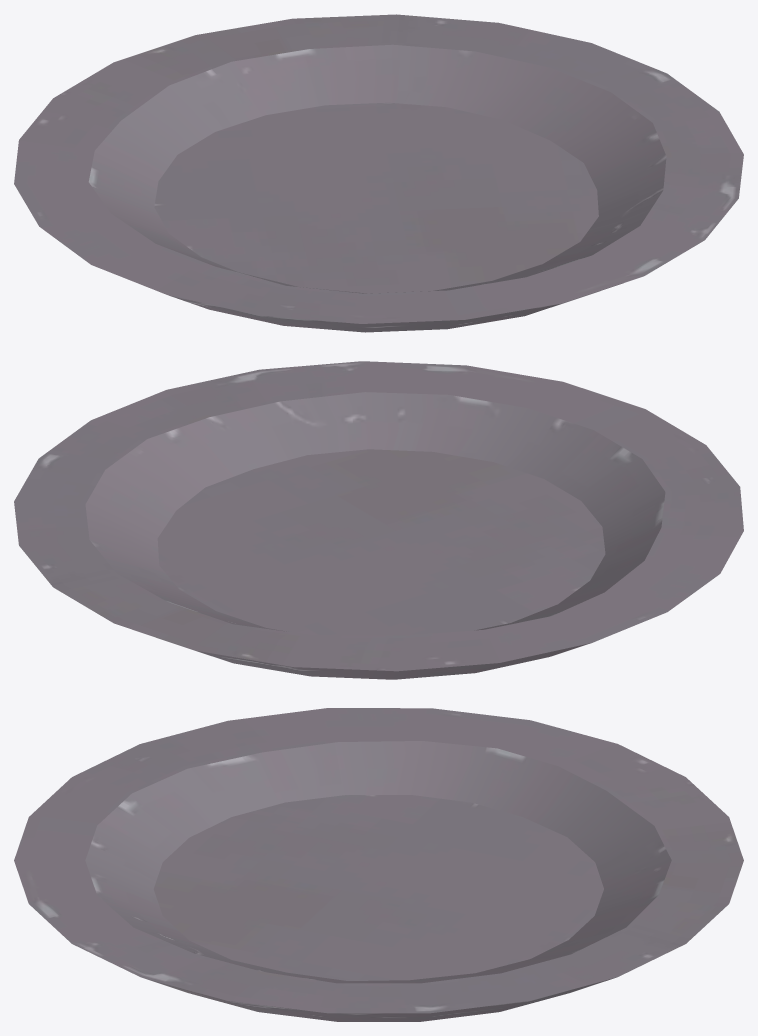
Rendered from Table_Plate.glb.
3 renders of one model, top to bottom at view 1: azimuth 30°, elevation 25°; view 2: azimuth 150°, elevation 25°; view 3: azimuth 270°, elevation 25°, orthographic.
Parts seen in each view (by area): view 1: Table_Plate; view 2: Table_Plate; view 3: Table_Plate.
Part boxes in pixels (x1,y1,x2,y2): Table_Plate: [14, 14, 743, 332]; Table_Plate: [14, 361, 743, 679]; Table_Plate: [14, 708, 743, 1021].
Size of the model in its own units: 0.3333 by 0.0202 by 0.3369.
1 material, 1 textured.
